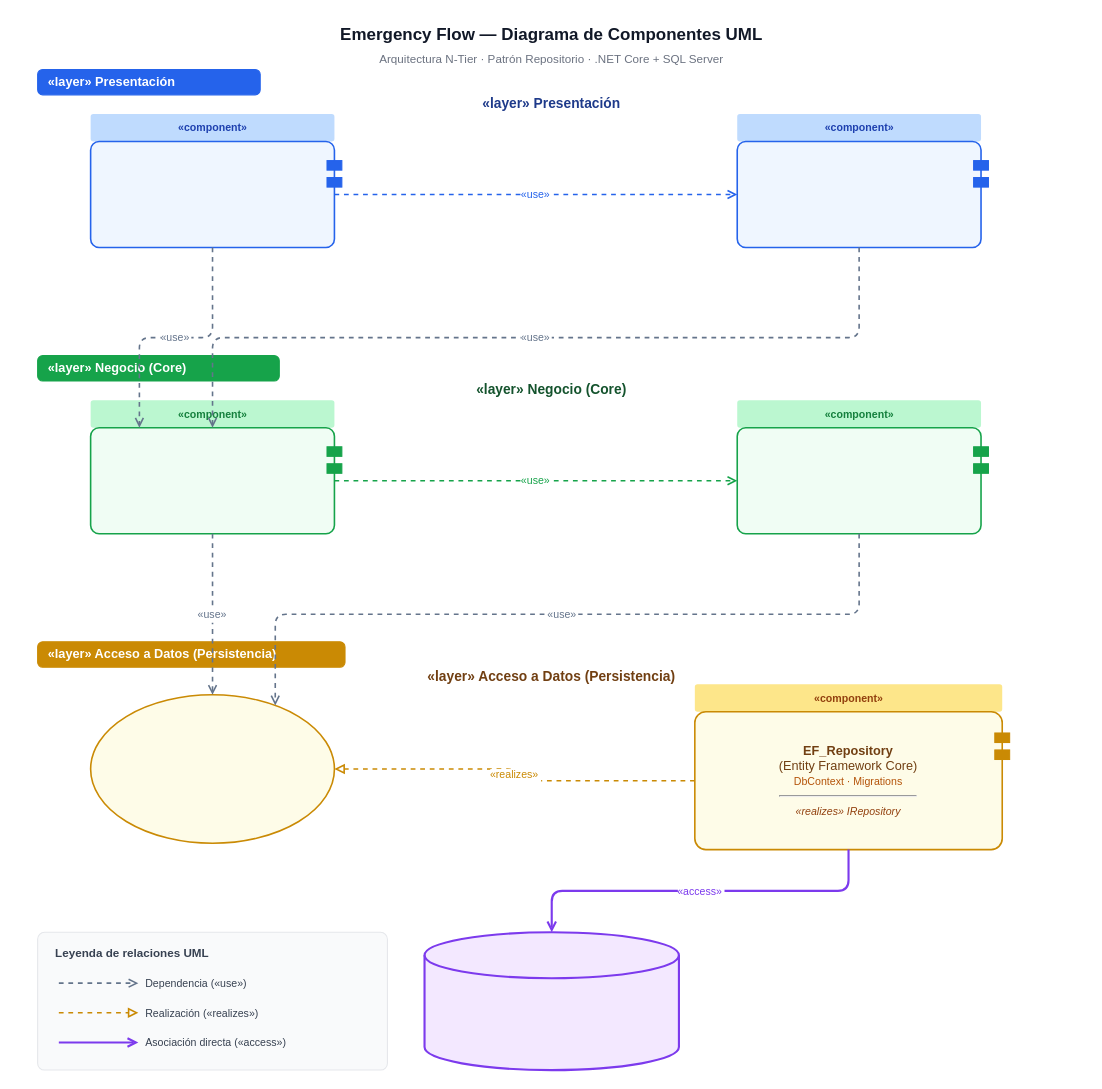
Some shapes in this 1102 by 1089 pixel diagram are drawn without their labels. Here are the shapes that lost their labels. From the top down, the centre of each, then its label:
the point at 212,194: Panel_Operador (Web UI) Interfaz de Operador
the point at 858,194: API_Controllers (REST Endpoints) HTTP / WebSocket
the point at 212,480: Servicio_Ambulancias (Gestión de Flota) Asignación · Tracking
the point at 858,480: Motor_Optimizacion (Algoritmo de Rutas) Dijkstra · A*
the point at 212,769: «interface» IRepository (Abstracción)
the point at 551,1001: «storage» SQL Server EmergencyFlowDB
